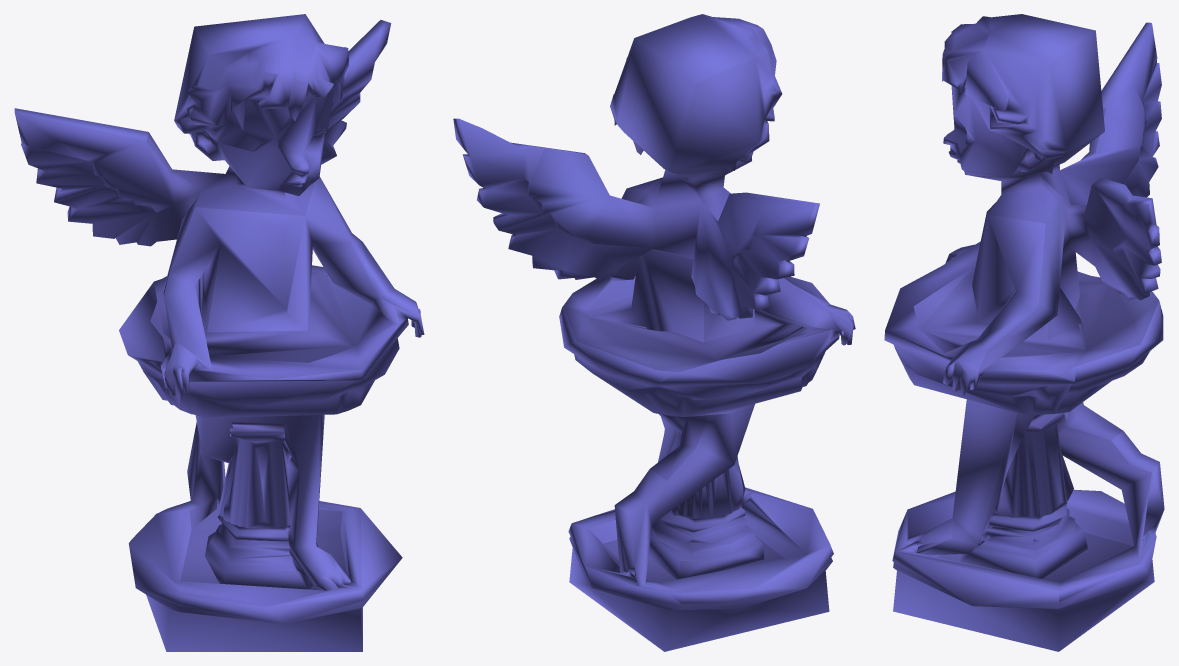
Rendered from model.progressive.glb.
3 renders of one model, left to right at view 1: azimuth 30°, elevation 25°; view 2: azimuth 150°, elevation 25°; view 3: azimuth 270°, elevation 25°, orthographic. The views are drawn at different scales.
Visible parts, largest first — view 1: mesh_input; view 2: mesh_input; view 3: mesh_input.
Boxes of the visible parts, bbox=[...] form: mesh_input: bbox=[14, 14, 424, 651]; mesh_input: bbox=[453, 14, 855, 651]; mesh_input: bbox=[884, 14, 1164, 651].
Bounding box in the file's own units: 1.26 × 1.86 × 0.8281.
1 material, 1 textured.
